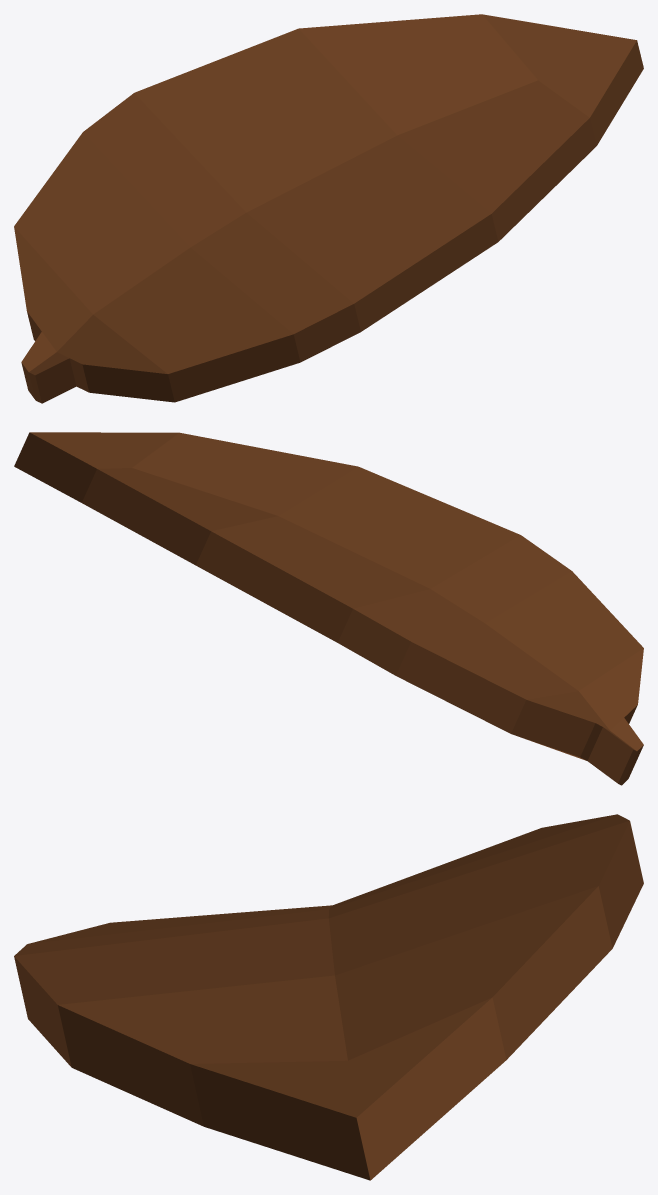
File: BrokenLeaf.fbx
3 renders of one model, top to bottom at view 1: azimuth 30°, elevation 25°; view 2: azimuth 150°, elevation 25°; view 3: azimuth 270°, elevation 25°, orthographic. The views are drawn at different scales.
Parts seen in each view (by area): view 1: BrokenLeaf_1.024; view 2: BrokenLeaf_1.024; view 3: BrokenLeaf_1.024.
Boxes of the visible parts, box(x1,y1,x2,y2) form: BrokenLeaf_1.024: box(14, 14, 643, 403); BrokenLeaf_1.024: box(14, 432, 643, 785); BrokenLeaf_1.024: box(14, 814, 643, 1180).
Size of the model in its own units: 171 by 61.36 by 94.61.
